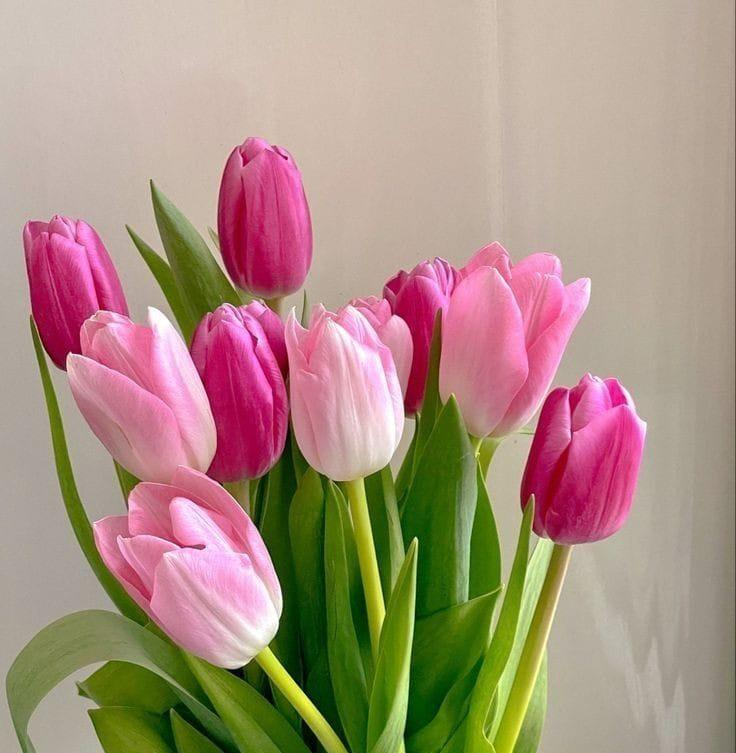tulip: (16, 130, 653, 684)
